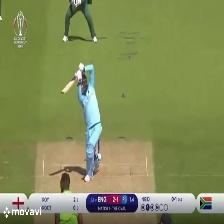batsman: (52, 60, 117, 183)
